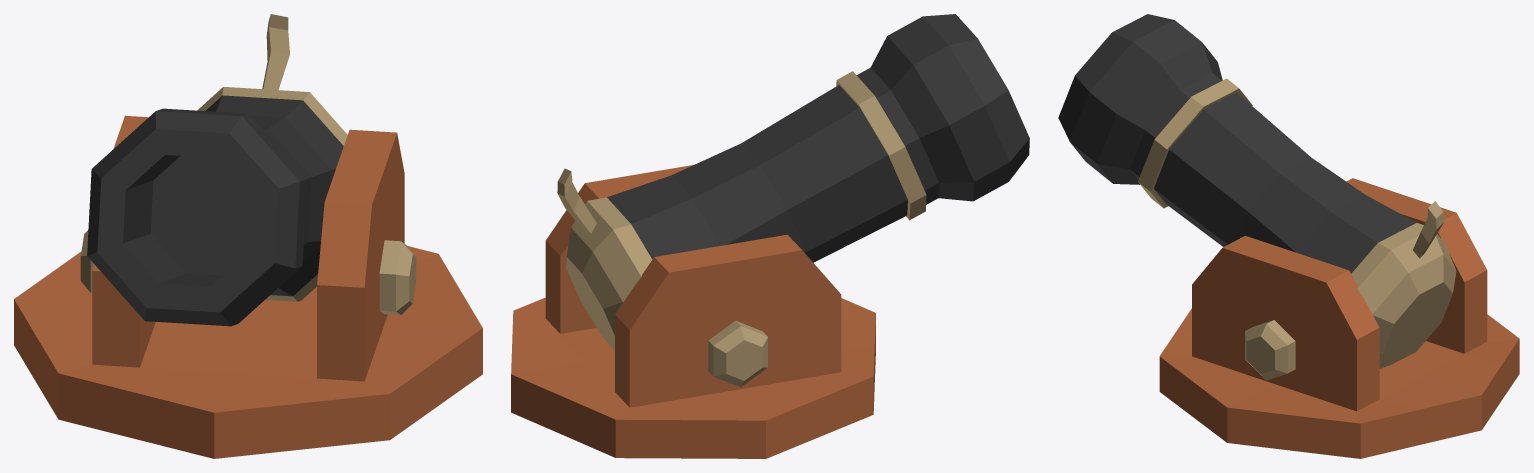
File: Low_Poly_Cannon.glb
The picture shows the model from 3 angles, left to right: view 1: azimuth 30°, elevation 25°; view 2: azimuth 150°, elevation 25°; view 3: azimuth 270°, elevation 25°; orthographic projection. The views are drawn at different scales.
Parts seen in each view (by area): view 1: unnamed (×4); view 2: unnamed (×4); view 3: unnamed (×4).
Part boxes in pixels (x1=…): unnamed (×4): x1=14, y1=14, x2=482, y2=458; unnamed (×4): x1=511, y1=14, x2=1029, y2=458; unnamed (×4): x1=1058, y1=14, x2=1519, y2=458.
Bounding box in the file's own units: 5.36 × 4 × 5.8.
